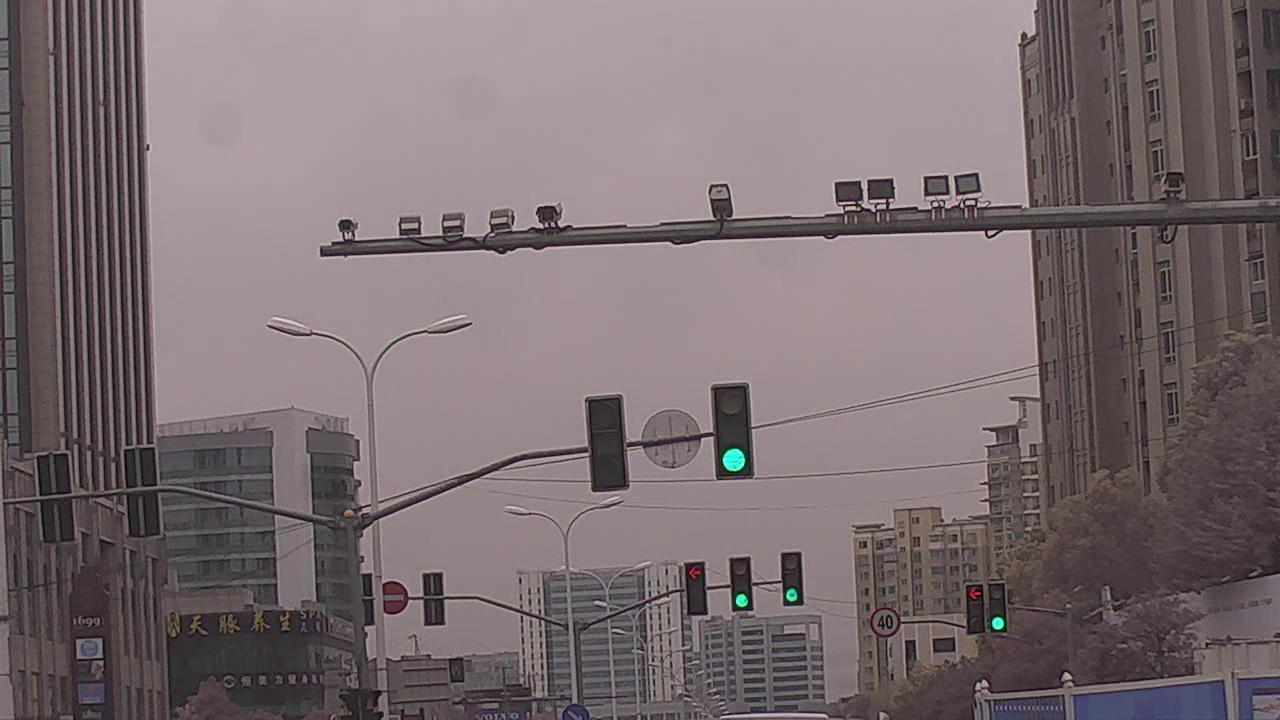traffic_light: (586, 393, 629, 493), (713, 383, 755, 480), (727, 556, 754, 613), (781, 552, 805, 608), (987, 579, 1010, 635), (685, 561, 706, 615), (965, 582, 985, 634)
